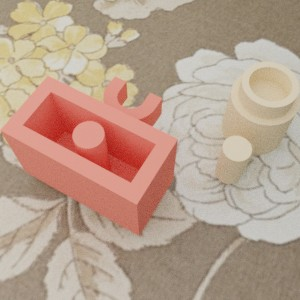lego: (0, 75, 178, 236), (215, 61, 299, 184)
